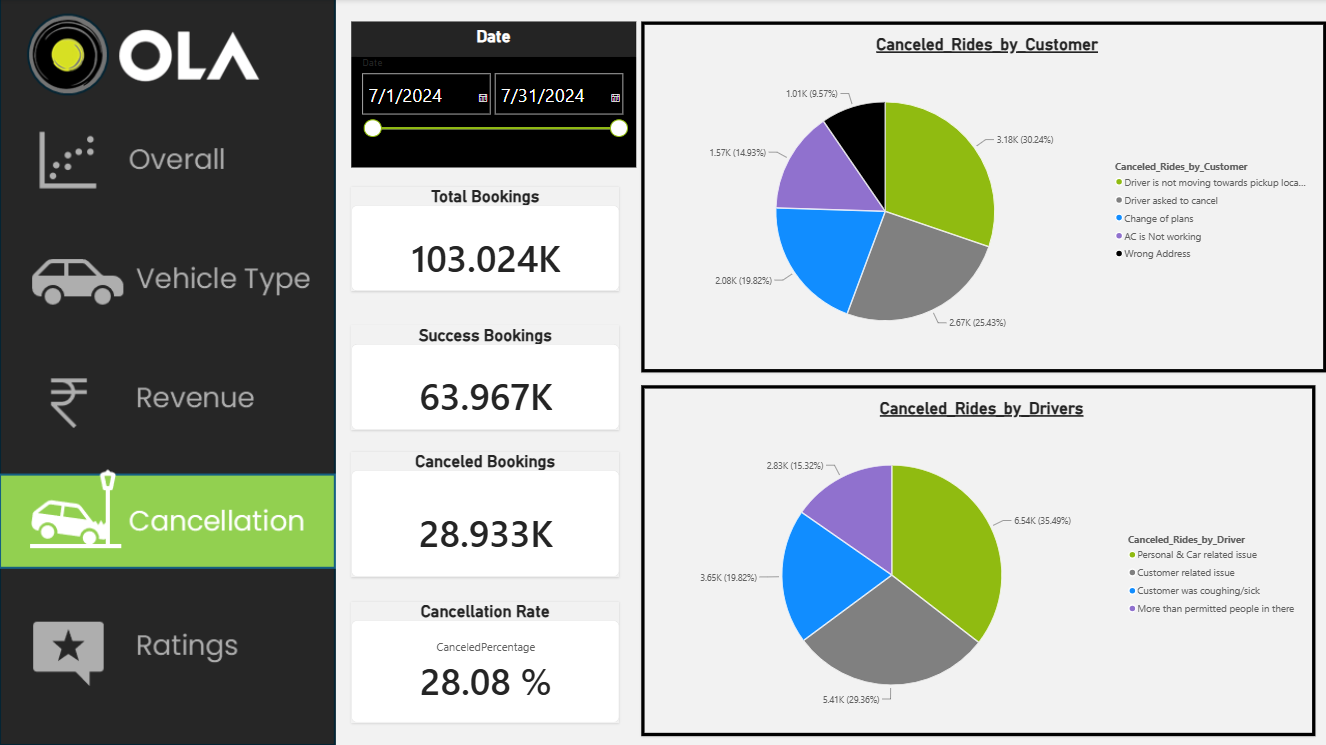

The page's visual inventory and layout, read from the dashboard file:
{"tool":"powerbi","page":{"name":"Cancellation","canvas":[1920,1080],"ordinal":3},"visuals":[{"type":"actionButton","box":[2,696,323.9,117.6],"z":0},{"type":"actionButton","box":[2,510,482,146],"z":1000},{"type":"actionButton","box":[0,686,482,138],"z":2000},{"type":"actionButton","box":[0,838,484,188],"z":3000},{"type":"actionButton","box":[2,332,480,140],"z":4000},{"type":"actionButton","box":[0,174,482,134],"z":5000},{"type":"pieChart","title":"Canceled_Rides_by_Customer","fields":{"Category":["July.Canceled_Rides_by_Customer"],"Y":["CountNonNull(July.Canceled_Rides_by_Customer)"]},"box":[928,32,992,508],"z":6000},{"type":"pieChart","title":"Canceled_Rides_by_Drivers","fields":{"Category":["July.Canceled_Rides_by_Driver"],"Y":["CountNonNull(July.Canceled_Rides_by_Driver)"]},"box":[928,560,976,508],"z":7000},{"type":"slicer","title":"Date","fields":{"Values":["July.Date"]},"box":[508,32,412,210],"z":8000},{"type":"cardVisual","title":"Total Bookings","fields":{"Data":["CountNonNull(July.Booking_ID)"]},"box":[508,272,388,152],"z":9000},{"type":"cardVisual","title":"Success Bookings","fields":{"Data":["CountNonNull(July.Booking_ID)"]},"box":[508,472,388,152],"z":10000},{"type":"cardVisual","title":"Canceled Bookings","fields":{"Data":["CountNonNull(July.Booking_ID)"]},"box":[508,656,388,182],"z":11000},{"type":"cardVisual","title":"Cancellation Rate","fields":{"Data":["July.CanceledPercentage"]},"box":[508,872,388,176],"z":12000}]}

Visuals, with their boxes in screenshot pixels (x1, y1, x2, y2), scaled from the page's 1920x1080 canvas onto the 1326x745 screenshot:
actionButton: (x1=1, y1=480, x2=225, y2=561)
actionButton: (x1=1, y1=352, x2=334, y2=453)
actionButton: (x1=0, y1=473, x2=333, y2=568)
actionButton: (x1=0, y1=578, x2=334, y2=708)
actionButton: (x1=1, y1=229, x2=333, y2=326)
actionButton: (x1=0, y1=120, x2=333, y2=212)
"Canceled_Rides_by_Customer" pieChart: (x1=641, y1=22, x2=1325, y2=372)
"Canceled_Rides_by_Drivers" pieChart: (x1=641, y1=386, x2=1315, y2=737)
"Date" slicer: (x1=351, y1=22, x2=635, y2=167)
"Total Bookings" cardVisual: (x1=351, y1=188, x2=619, y2=292)
"Success Bookings" cardVisual: (x1=351, y1=326, x2=619, y2=430)
"Canceled Bookings" cardVisual: (x1=351, y1=453, x2=619, y2=578)
"Cancellation Rate" cardVisual: (x1=351, y1=602, x2=619, y2=723)
